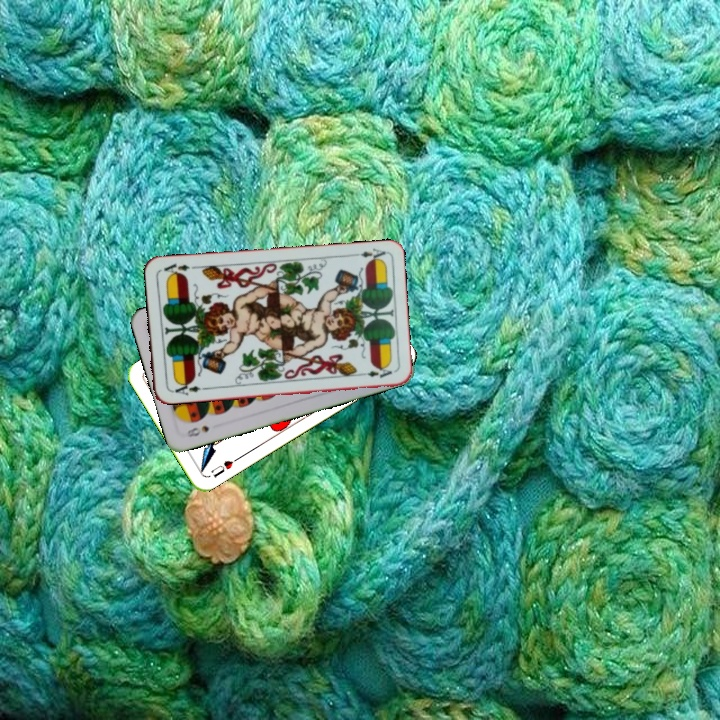EA: (168, 378, 208, 398), (347, 245, 388, 264)
HU: (207, 454, 241, 480)
S8: (181, 422, 212, 440)
